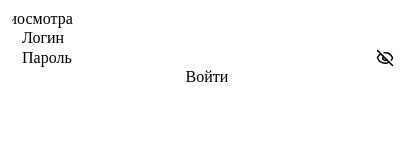
Test: LoginForm › не отправляет пустую форму
Step 1. Click the button "Войти" → (207, 77), box [20, 68, 394, 86]
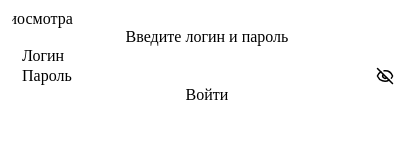
Check: the message shows "логин и пароль", box [126, 28, 288, 45]
